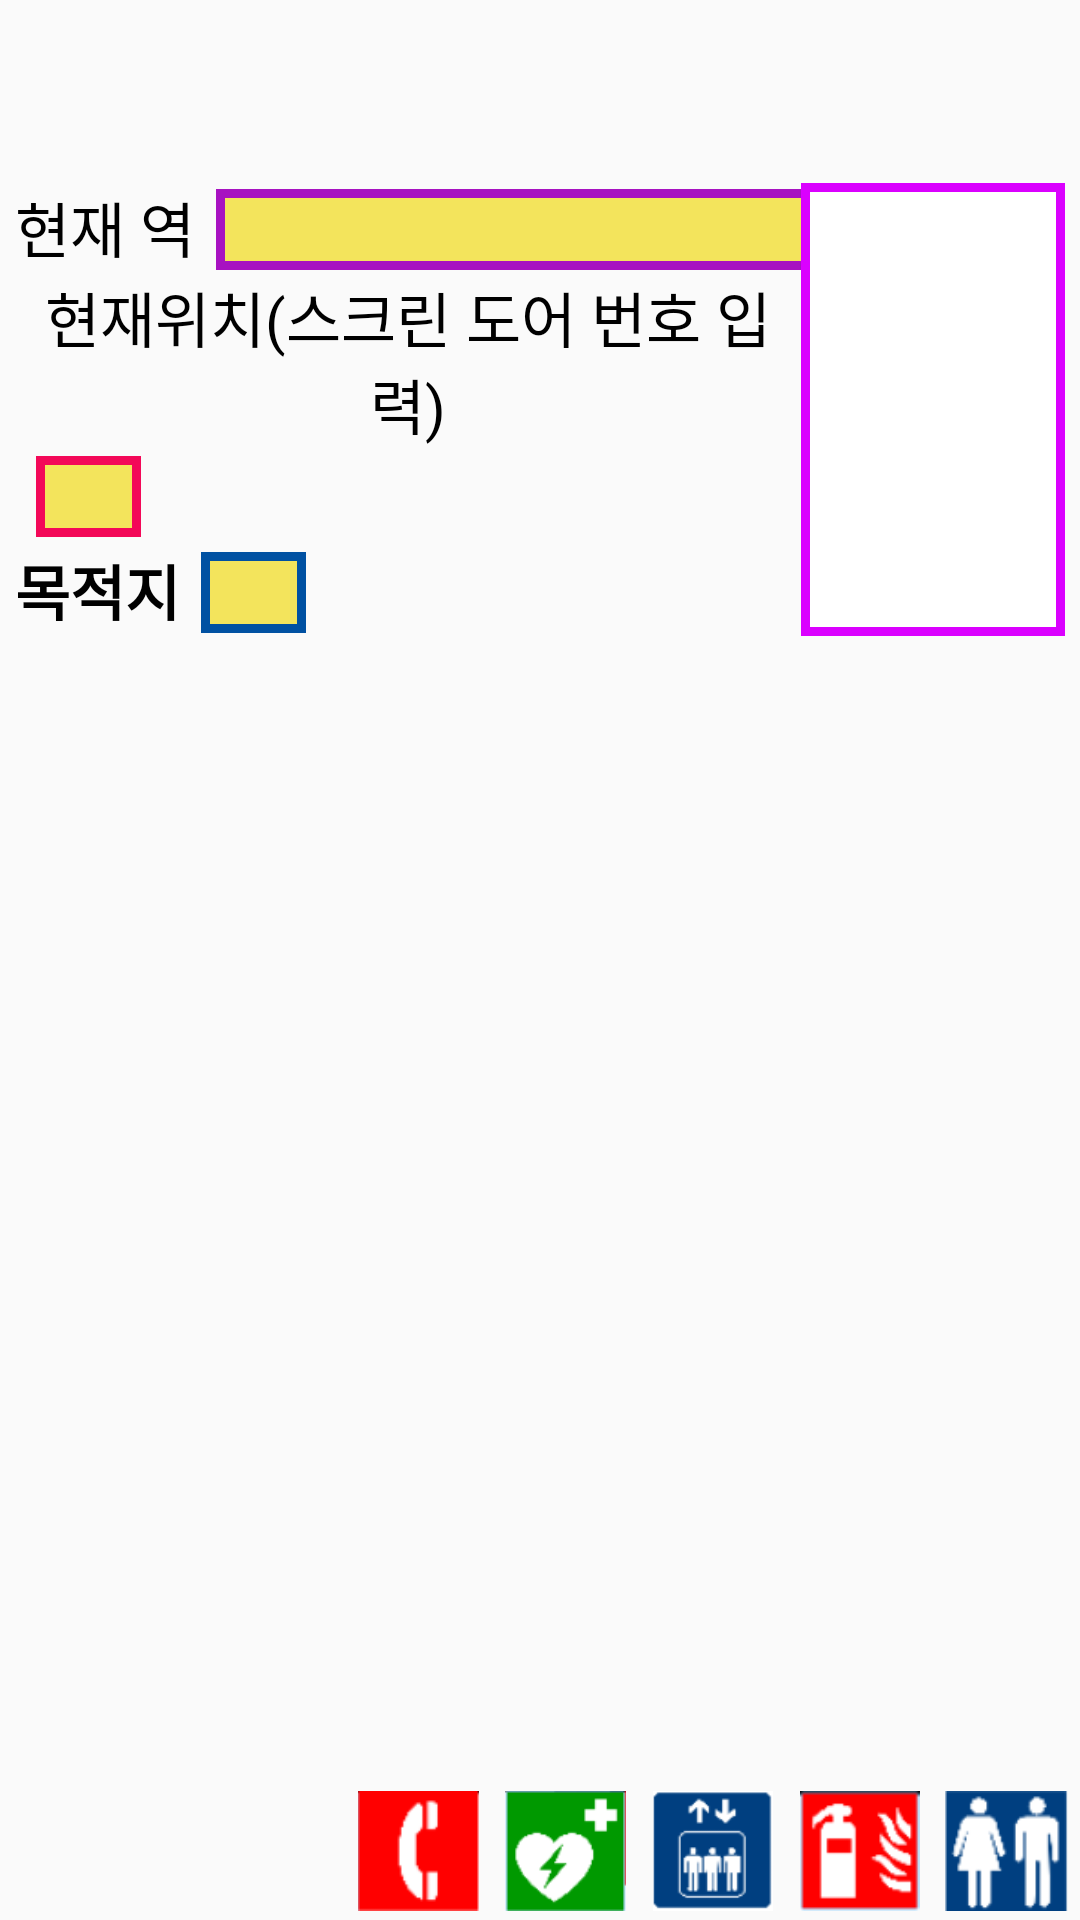

Point at icon controls on the screen. Image size 1080 x 1920, points as point (x, y).
aed: point (565, 1851)
callbox: point (418, 1851)
elevator: point (712, 1850)
fireplug: point (860, 1851)
restroom: point (1006, 1851)
